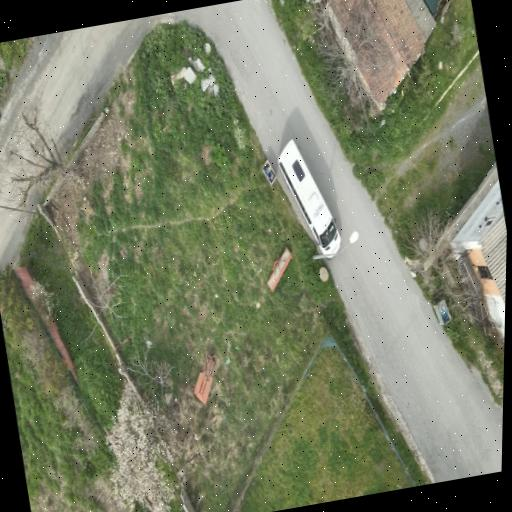bus: (277, 140, 340, 255)
